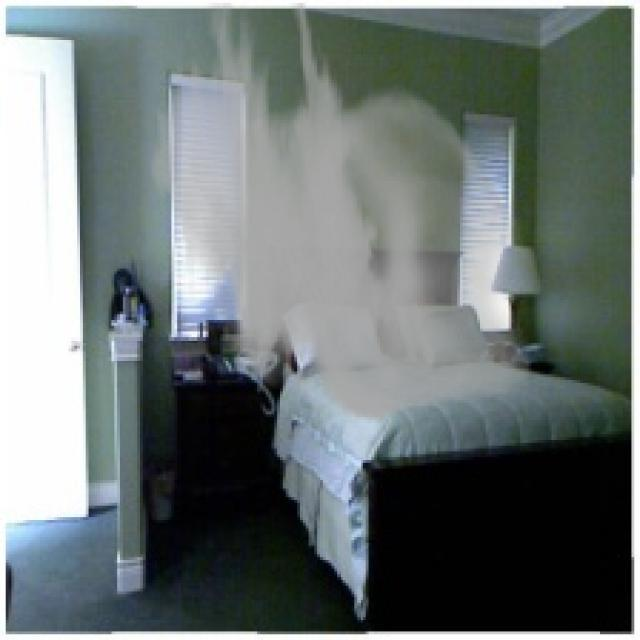Smoke: (146, 3, 532, 423)
